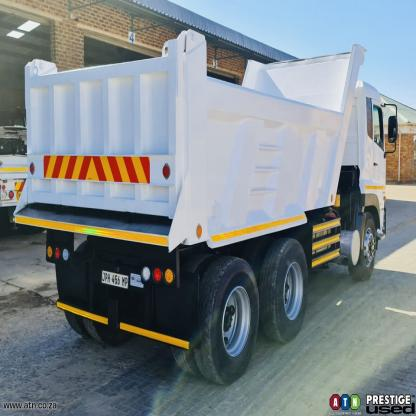dump_truck: (17, 35, 396, 387)
